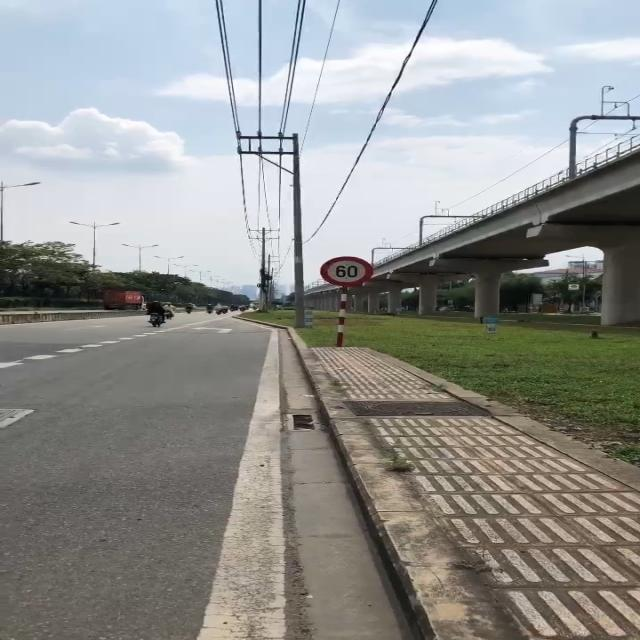Bien bao toc do toi da cho phep: (314, 252, 377, 290)
